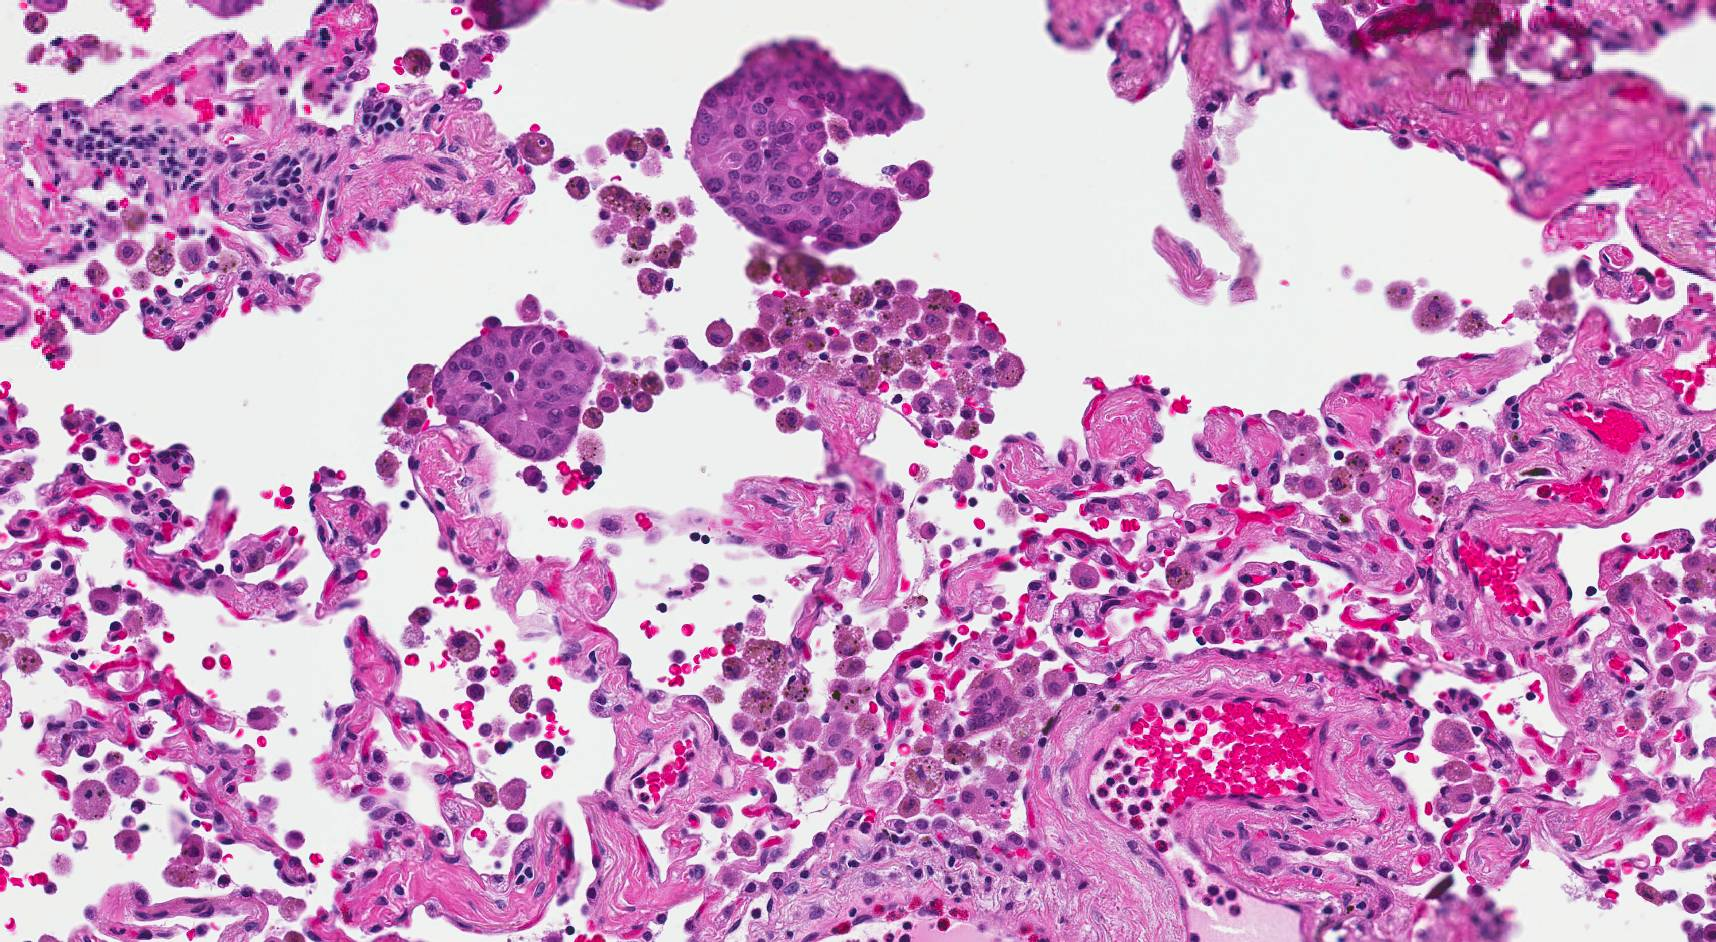stas: (691, 38, 925, 250), (428, 323, 600, 459), (886, 159, 935, 201)
